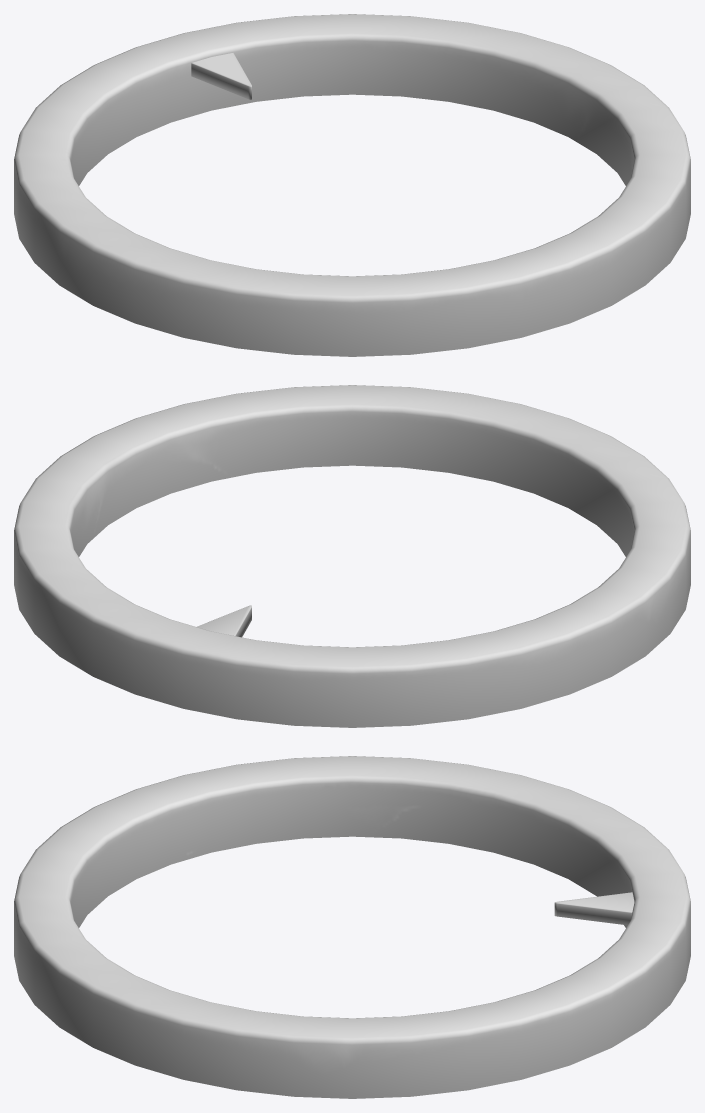
File: huti.glb
3 views of the same model, one above another, from view 1: azimuth 30°, elevation 25°; view 2: azimuth 150°, elevation 25°; view 3: azimuth 270°, elevation 25° (orthographic).
Parts seen in each view (by area): view 1: huti; view 2: huti; view 3: huti.
Part boxes in pixels (<box>): huti: <box>14,14,690,356</box>; huti: <box>14,385,690,727</box>; huti: <box>14,756,690,1098</box>.
Size of the model in its own units: 2.4 by 0.2305 by 2.4.
1 material, 1 textured.
